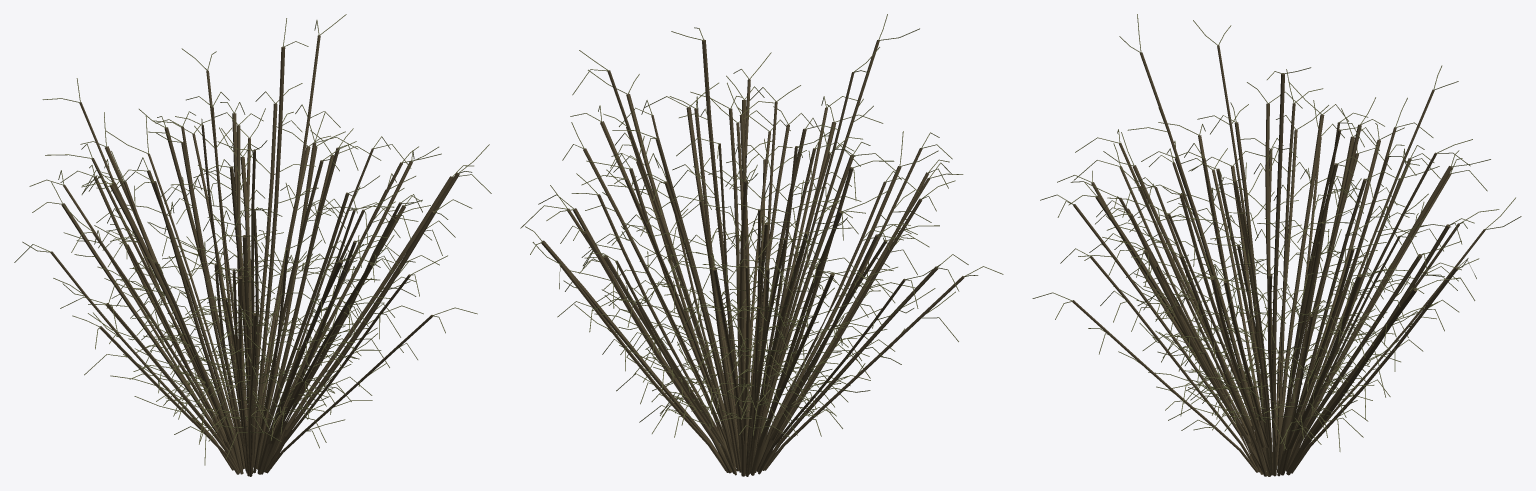
Rendered from branches.glb.
The picture shows the model from 3 angles, left to right: view 1: azimuth 30°, elevation 25°; view 2: azimuth 150°, elevation 25°; view 3: azimuth 270°, elevation 25°; orthographic projection. The views are drawn at different scales.
Parts seen in each view (by area): view 1: branches; view 2: branches; view 3: branches.
Part boxes in pixels (<box>): branches: <box>14,14,491,476</box>; branches: <box>520,14,1003,476</box>; branches: <box>1032,14,1521,476</box>.
Size of the model in its own units: 2.53 by 2.52 by 2.61.
